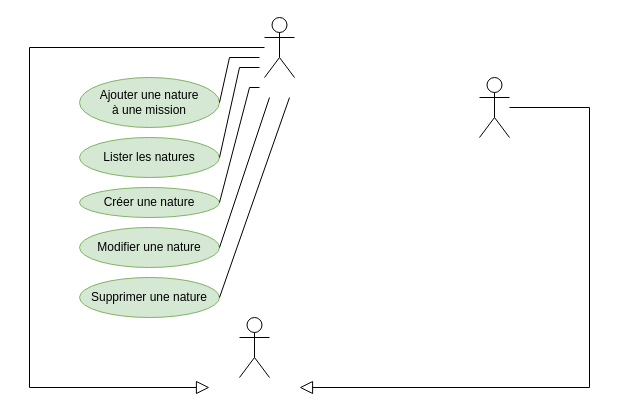
The diagram is 620 pixels wide and 418 high, and some of its shapes have lost their labels. The shapes that lost their labels are listed below. From the top down, each one's box as (x1, y1, x2, y2) in pixels, then its label:
(264, 16, 294, 78): Admin
(478, 76, 510, 138): Manager
(238, 316, 270, 378): Collaborateur
